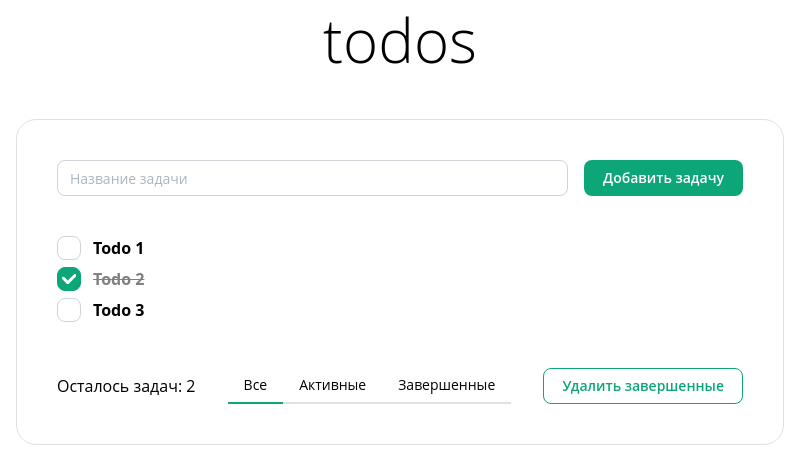
Should show fallback text when list is empty
Click the checkbox labelled "Todo 1": (69, 248) [57,236,81,260]
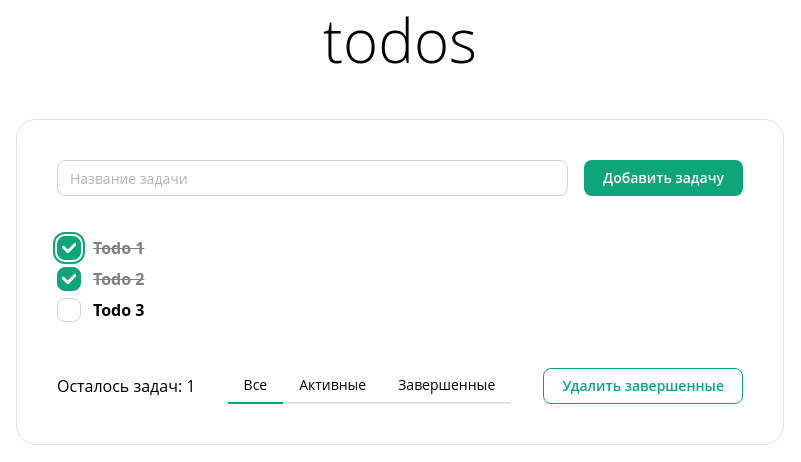
Click the checkbox labelled "Todo 3": (69, 310) [57,298,81,322]
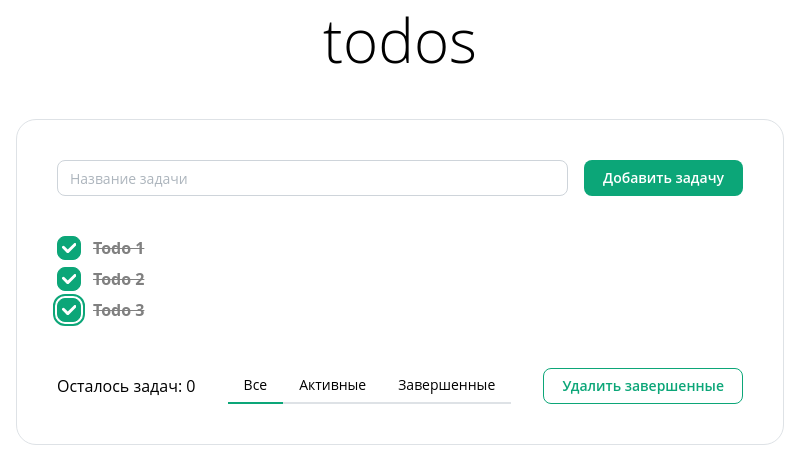
Click the button "Удалить завершенные": (643, 386) [543,368,743,404]
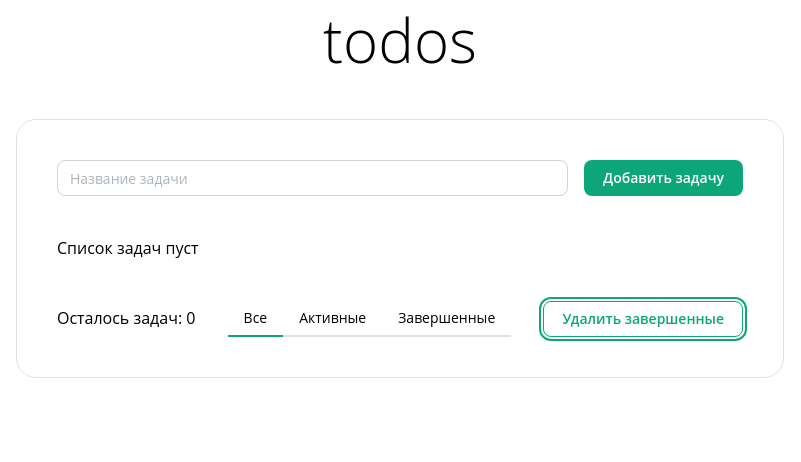
expect the text "Список задач пуст" is shown: met, box [57,237,199,259]
